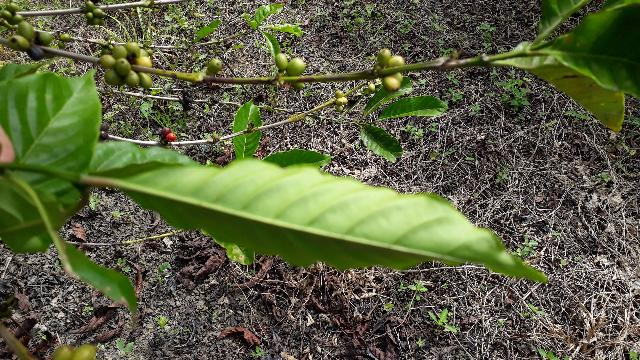healthy: (88, 156, 558, 286)
